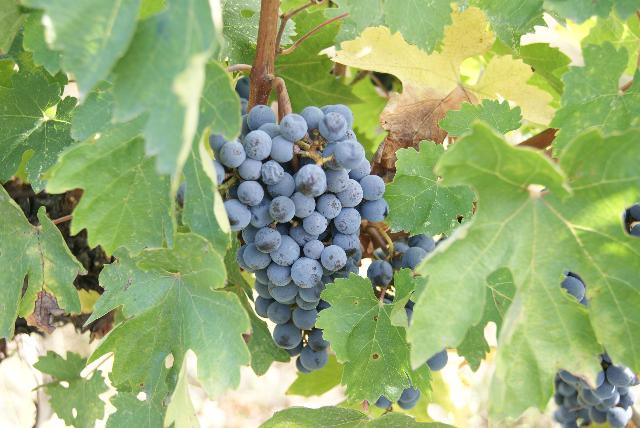grapes: (210, 104, 389, 374)
